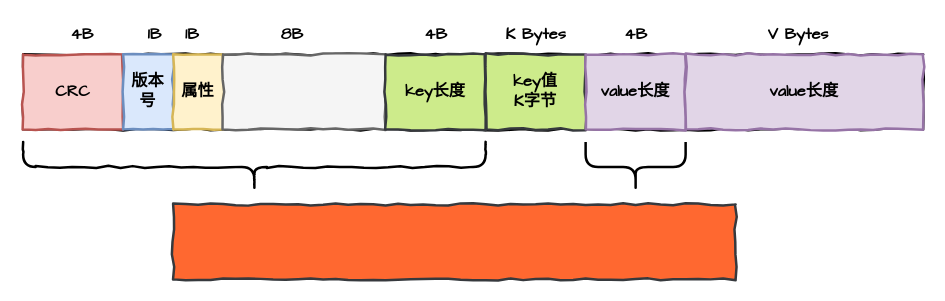
Image size: 945x301. Some labels were removed from this diagram. The centre of each missing label's shape, as x and y in pixels:
时间戳: the point at 303,91
消息头部(message header size): the point at 453,241
